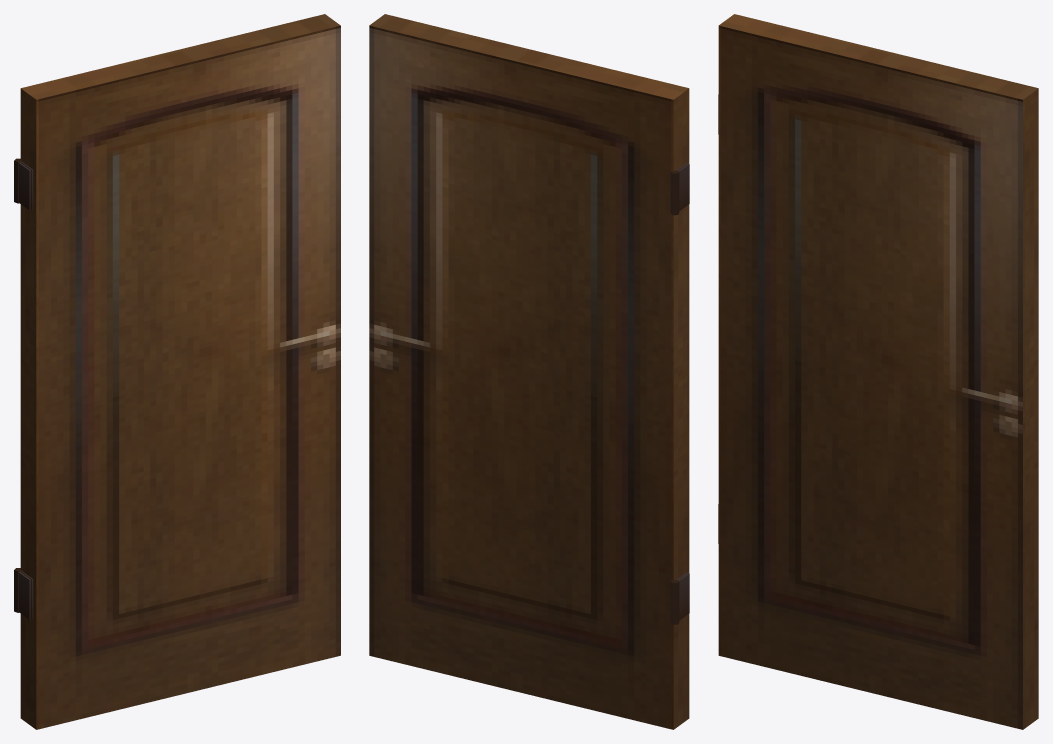
File: Doors.fbx
The picture shows the model from 3 angles, left to right: view 1: azimuth 30°, elevation 25°; view 2: azimuth 150°, elevation 25°; view 3: azimuth 330°, elevation 25°; orthographic projection.
Parts seen in each view (by area): view 1: Cube, Cube.001, Cube.004; view 2: Cube; view 3: Cube.
Part boxes in pixels (x1,y1,x2,y2): Cube: (20,14,340,729); Cube.001: (18,162,31,210); Cube.004: (18,572,31,619); Cube: (369,14,689,729); Cube: (718,14,1038,729).
Bounding box in the file's own units: 103 × 200 × 10.53.
